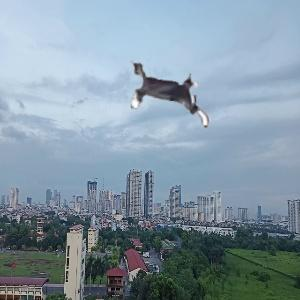drone: (117, 39, 216, 138)
